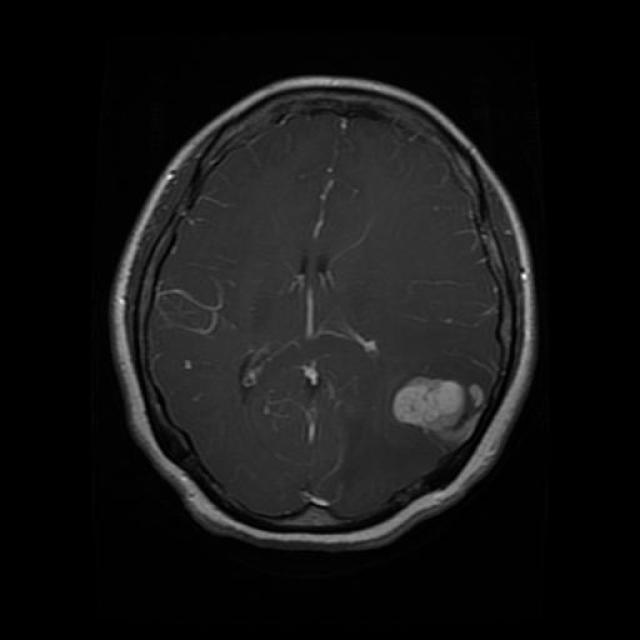glioma: (395, 377, 484, 442)
